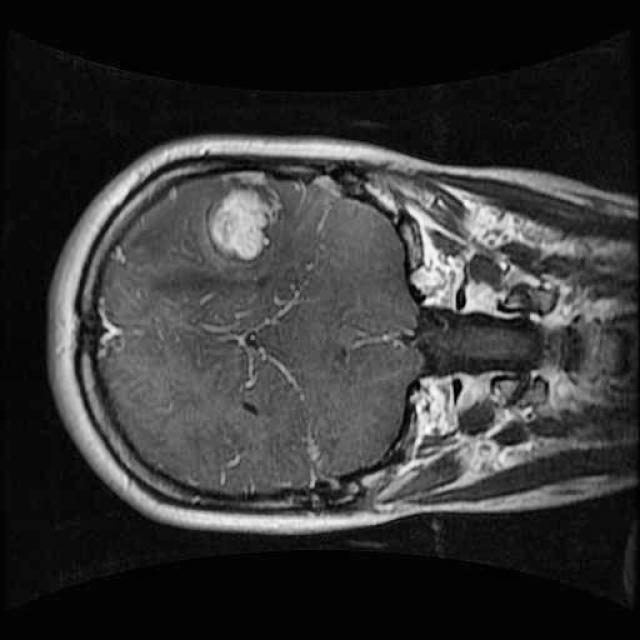Tumor: (201, 164, 288, 274)
